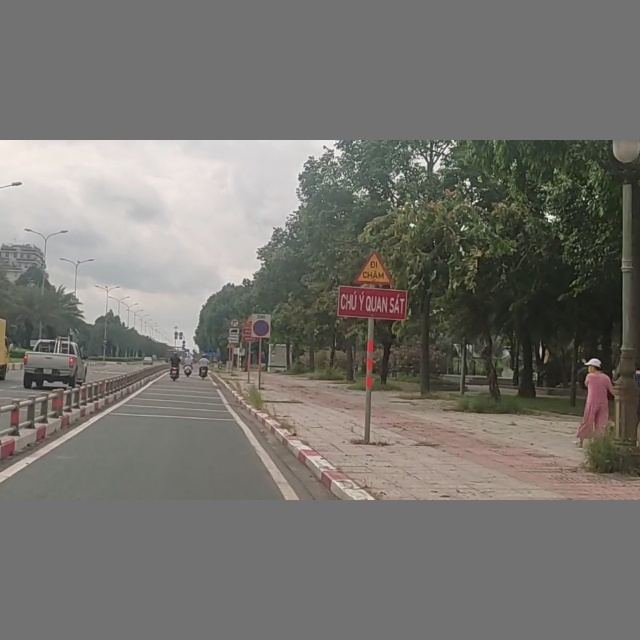P.123b: (229, 317, 240, 328)
P.130: (250, 313, 272, 339)
S.505a*Xe tai: (227, 327, 241, 344)
W.245a: (352, 250, 393, 287)
